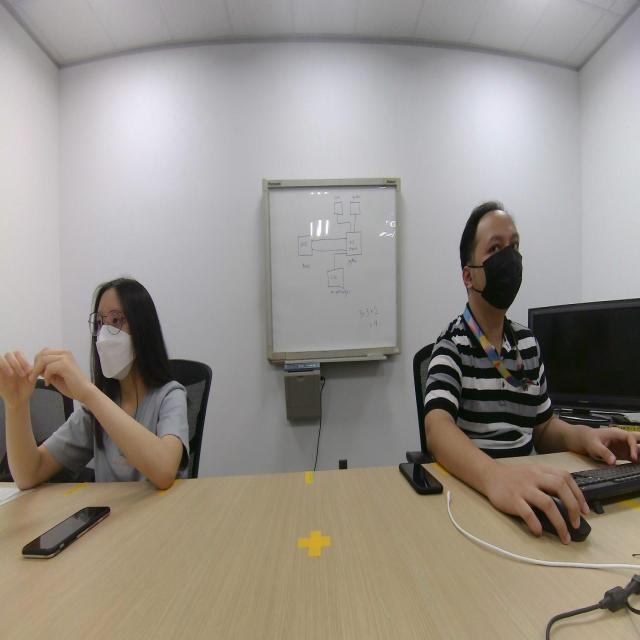obstacle: (32, 170, 193, 481), (410, 160, 559, 452)
